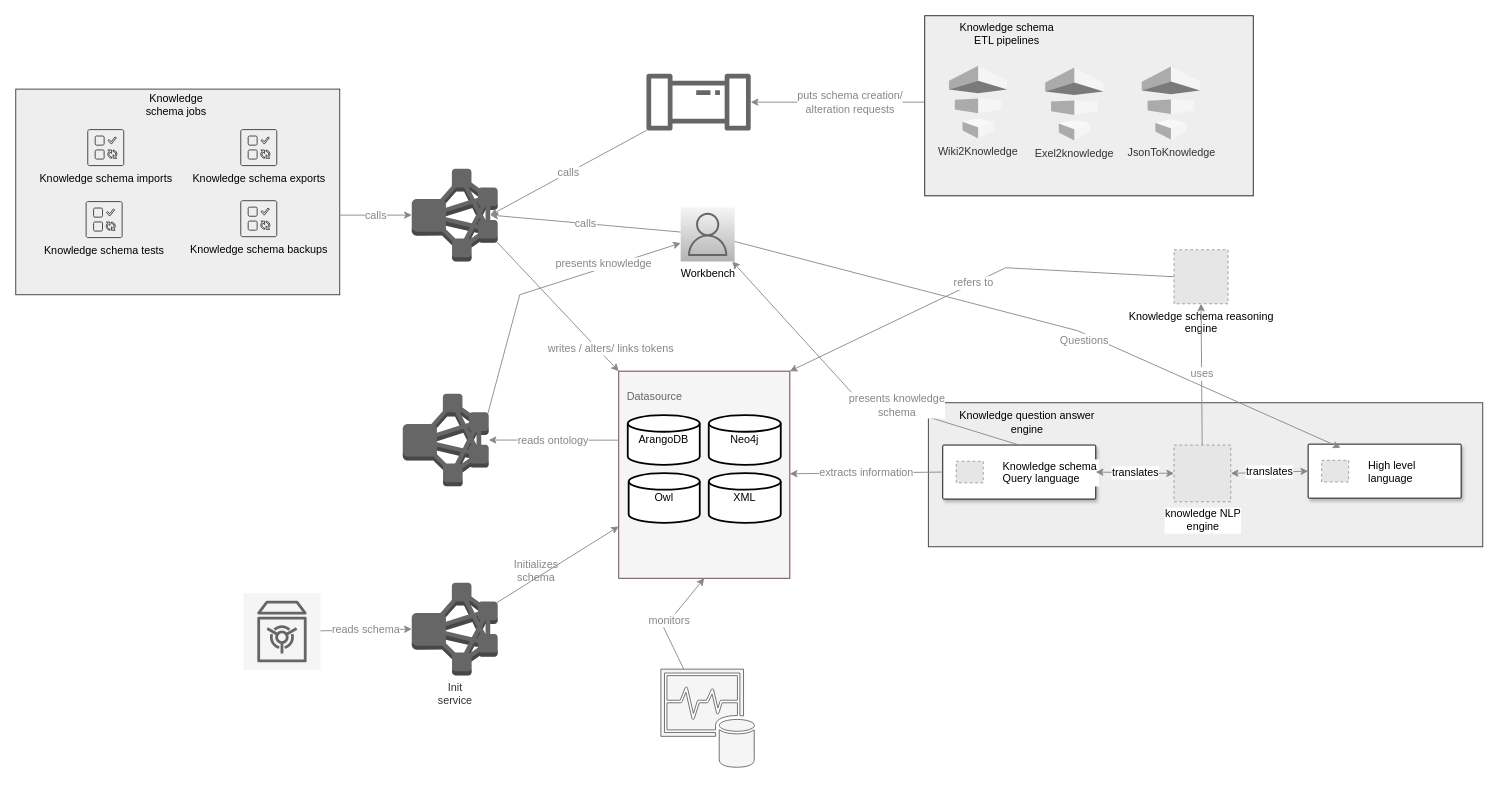
This 1499x803 diagram has some shape labels left out. Grey dashed boxes stand in for pictures. The centre of each missing label's shape, as x and y in pixels:
Knowledge schema APIs: the point at 454,214
Knowledge schema ingestion queue: the point at 698,102
Knowledge schema monitoring service: the point at 707,718
Knowledge schema vault: the point at 281,631
Schema visualizer: the point at 445,439
